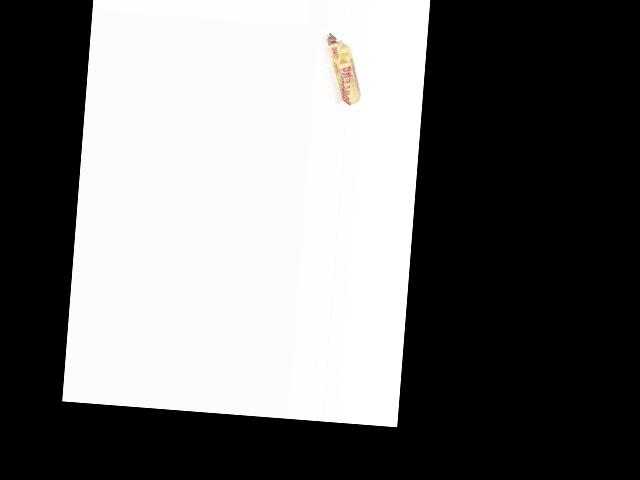chocolate: (319, 32, 366, 105)
